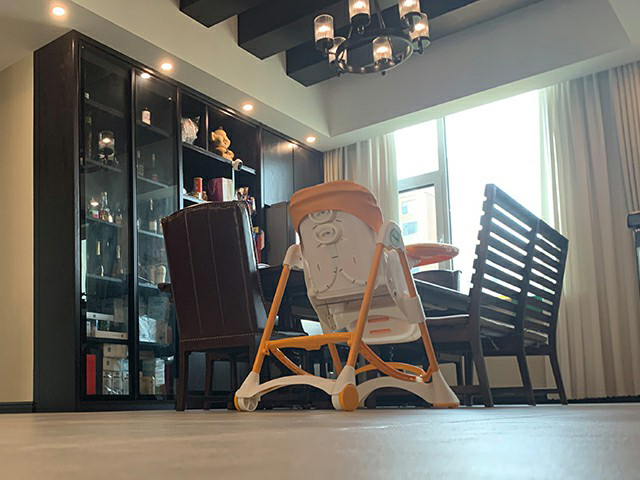cabinet: (33, 37, 164, 413)
curtain: (560, 66, 640, 402)
stool: (421, 176, 567, 403), (160, 197, 314, 410)
